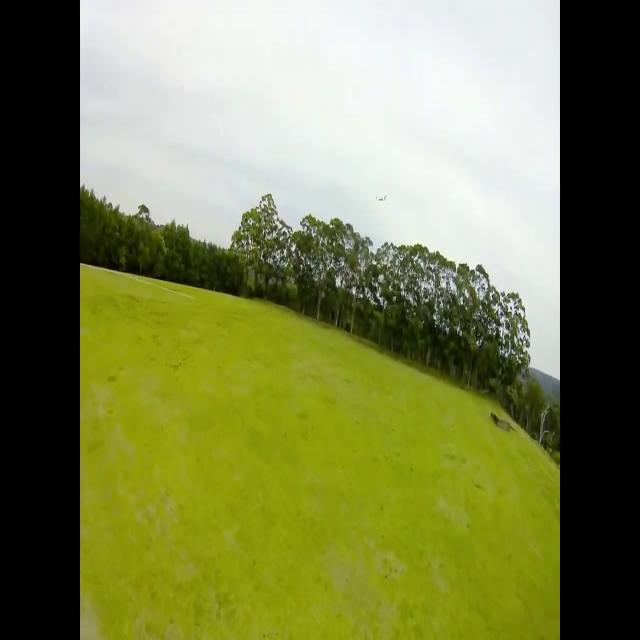iha: (373, 196, 392, 200)
